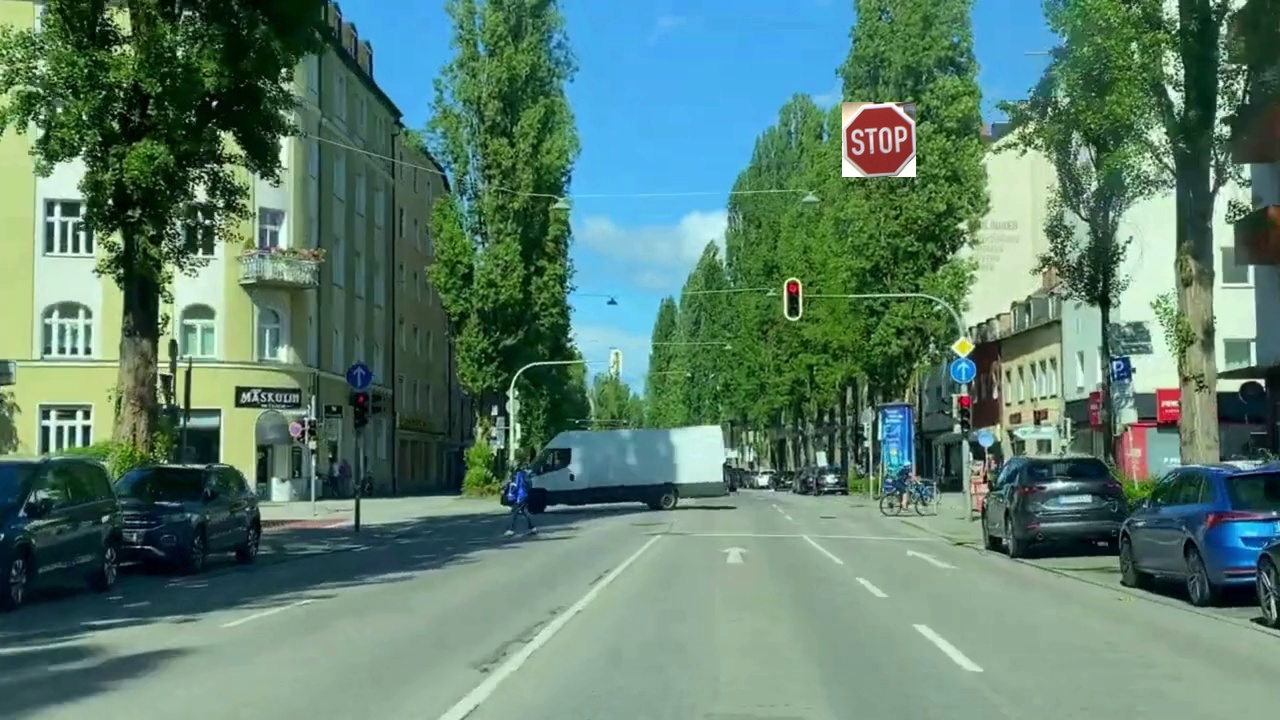Stop: (842, 102, 916, 177)
